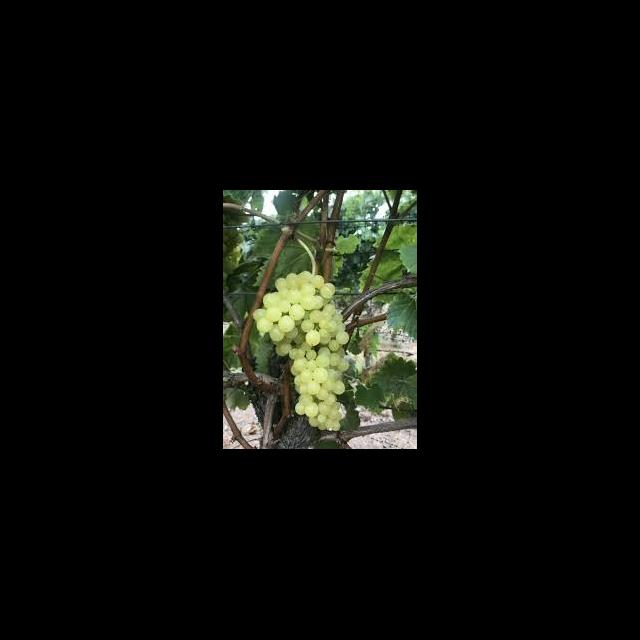grape: (252, 270, 349, 432)
